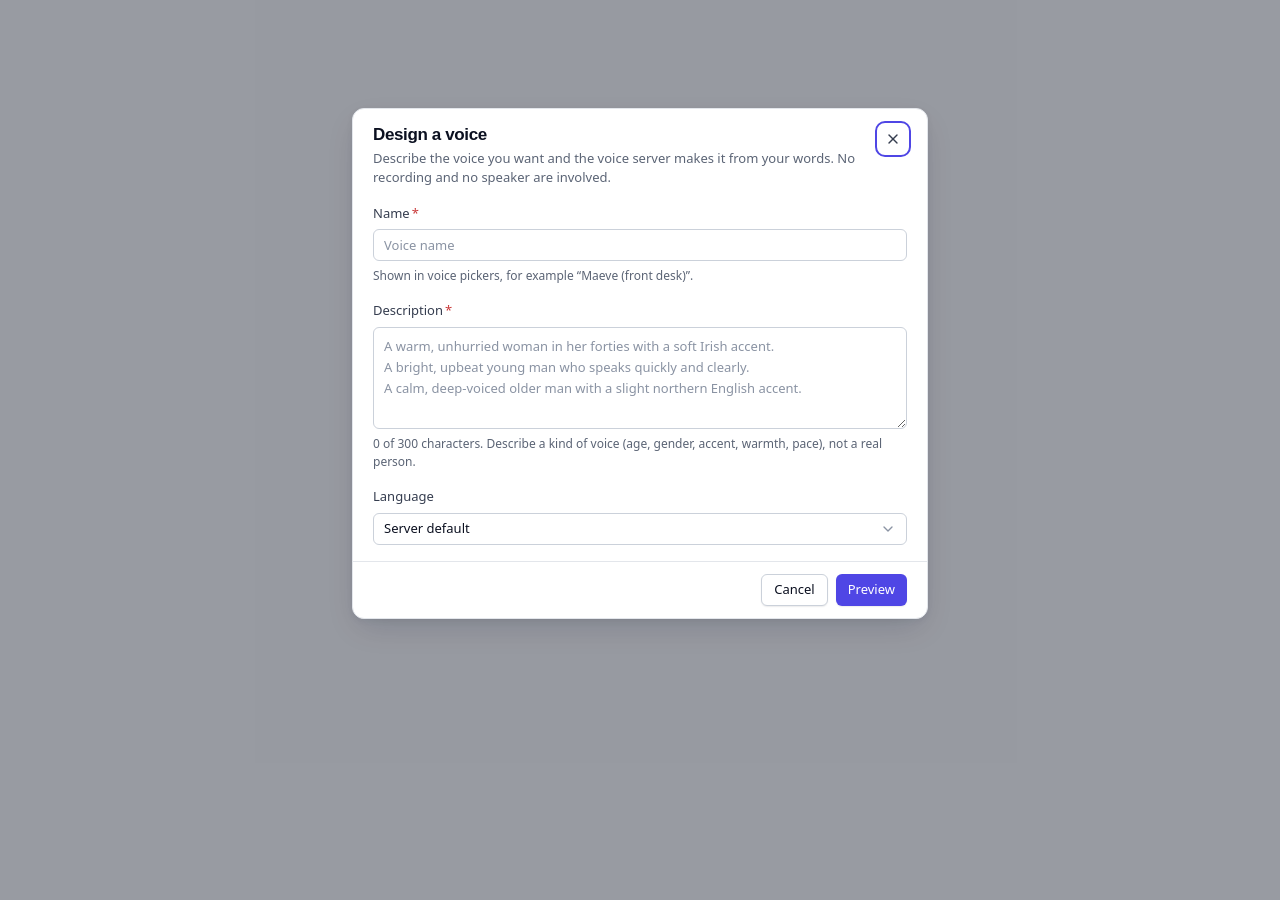
it: DesignVoiceDialog › shows what the server refused next to the field
The width and height of the screenshot is (1280, 900).
Step 1. Type "Maeve" into the field with placeholder "Voice name" → (640, 245), box [373,229,907,261]
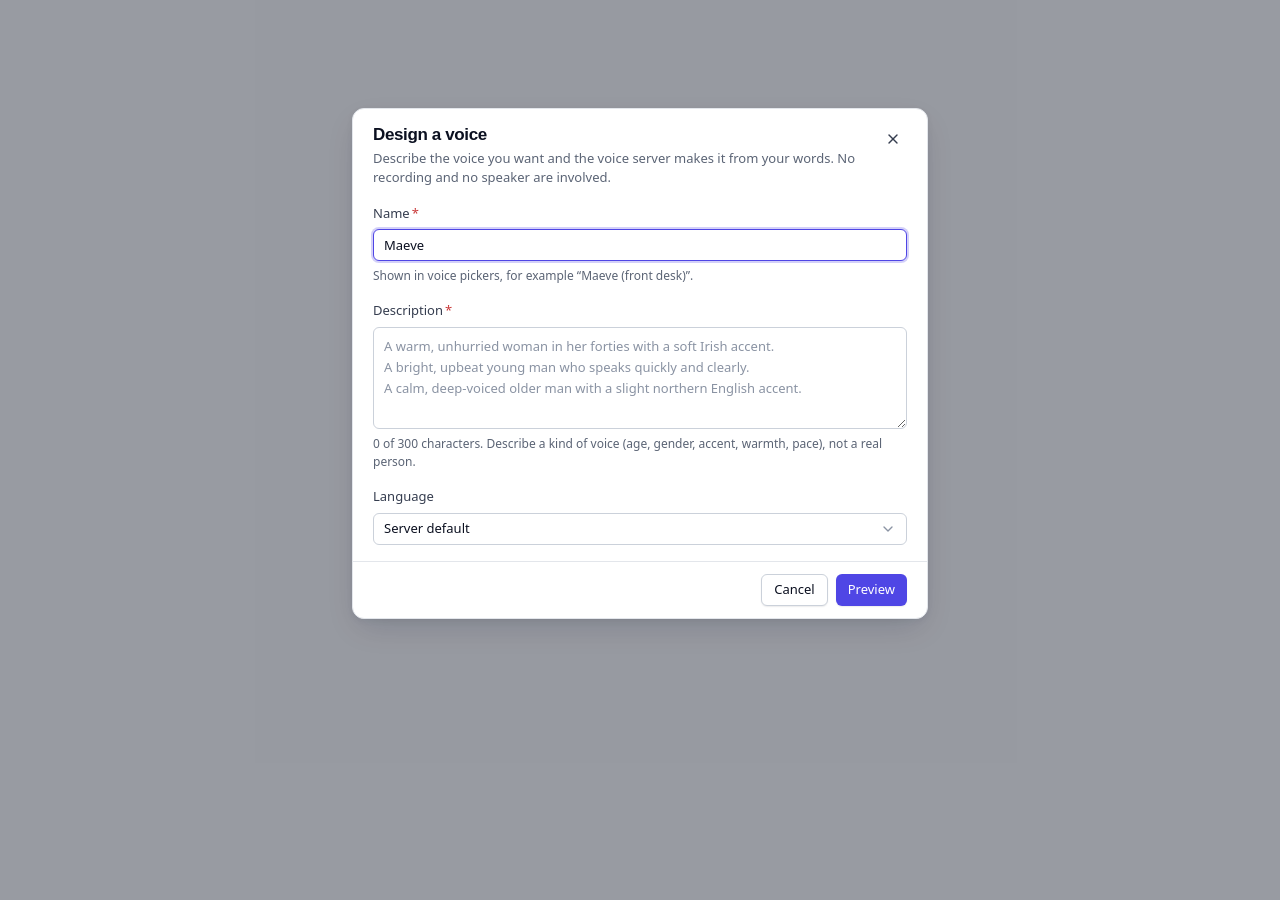
Step 2. Click the text box with placeholder "soft Irish accent" → (640, 378), box [373,326,907,429]
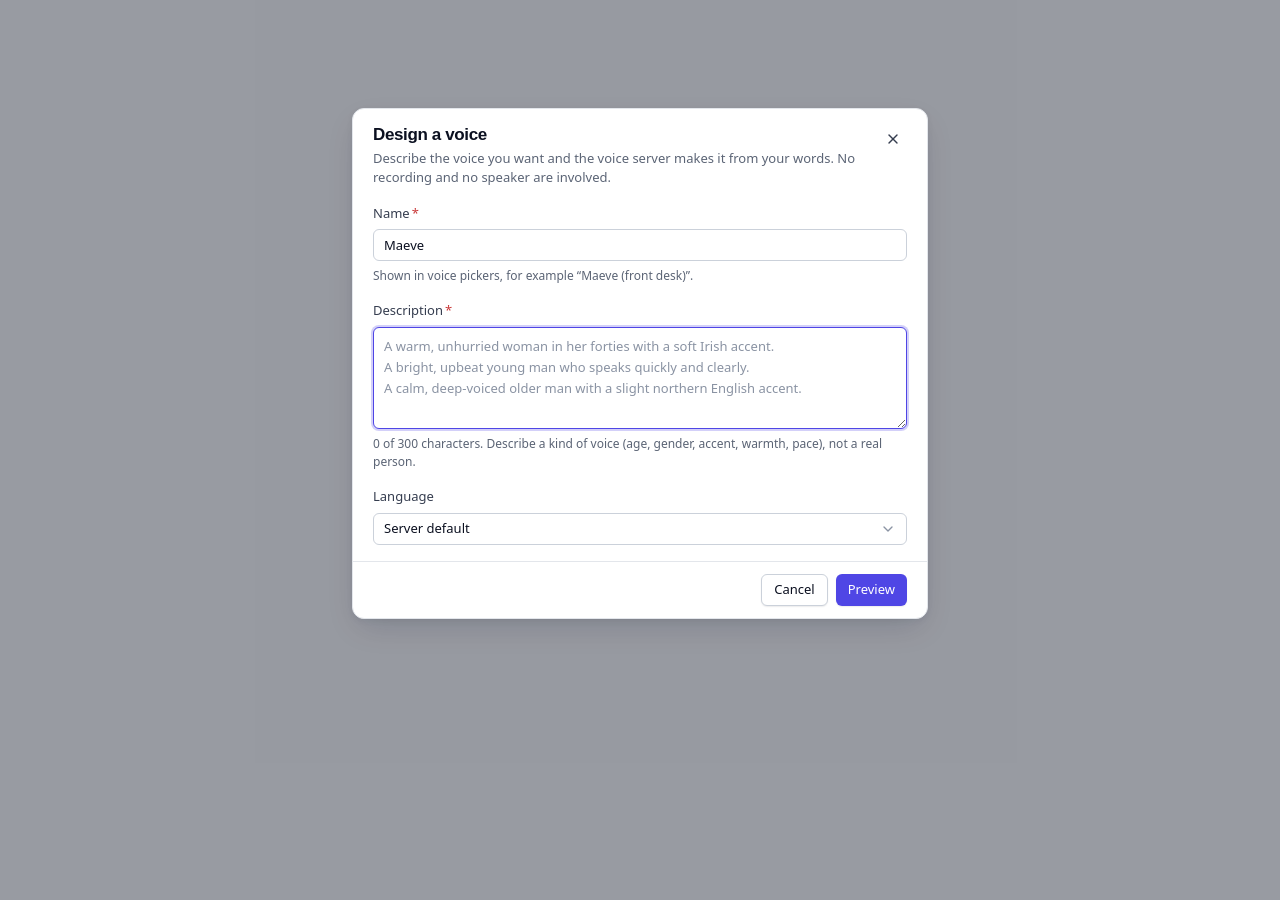
Step 3. Type keys "A warm, unhurried woman in her forties with a soft Irish accent."
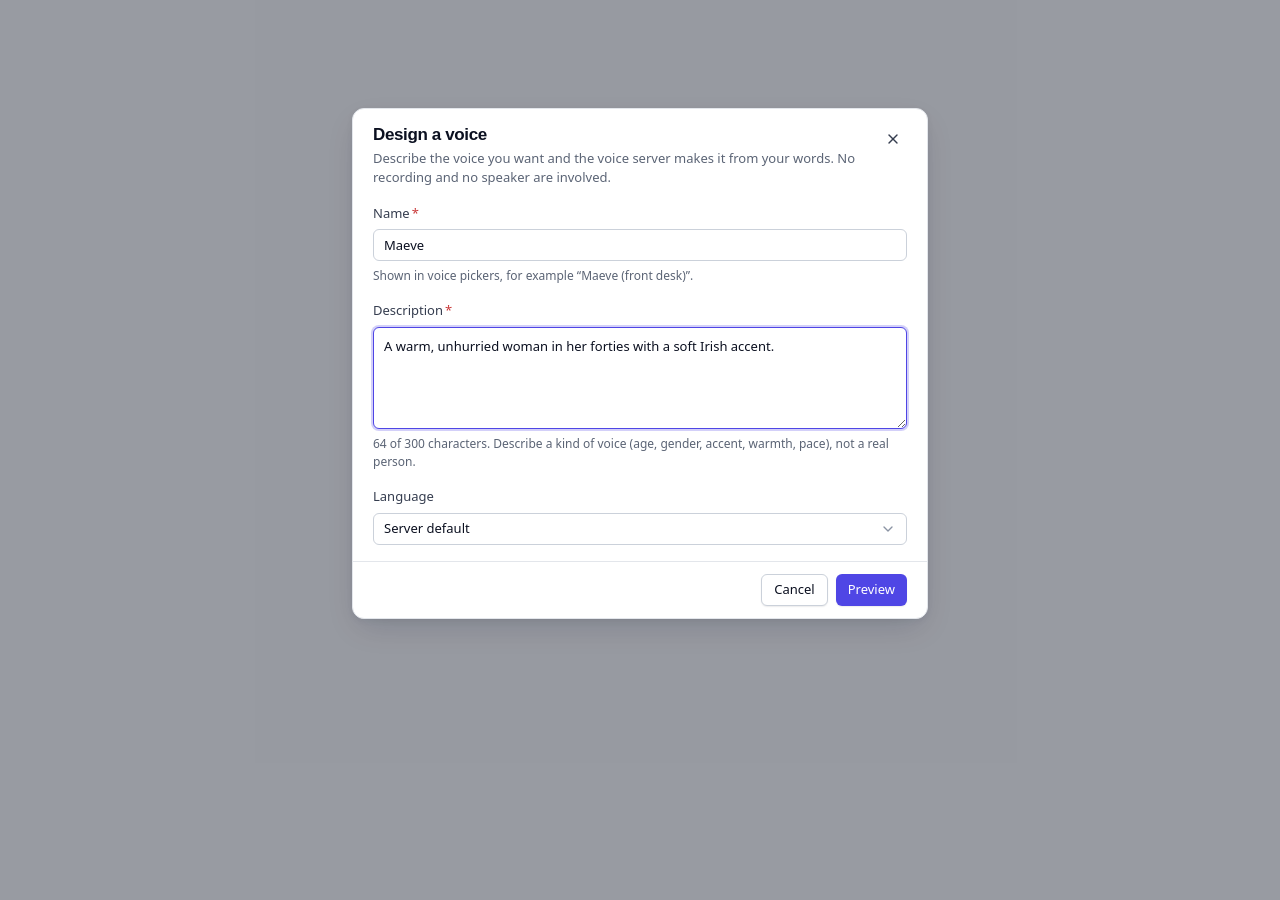
Step 4. Click the button "Preview" → (871, 590), box [836,574,907,606]
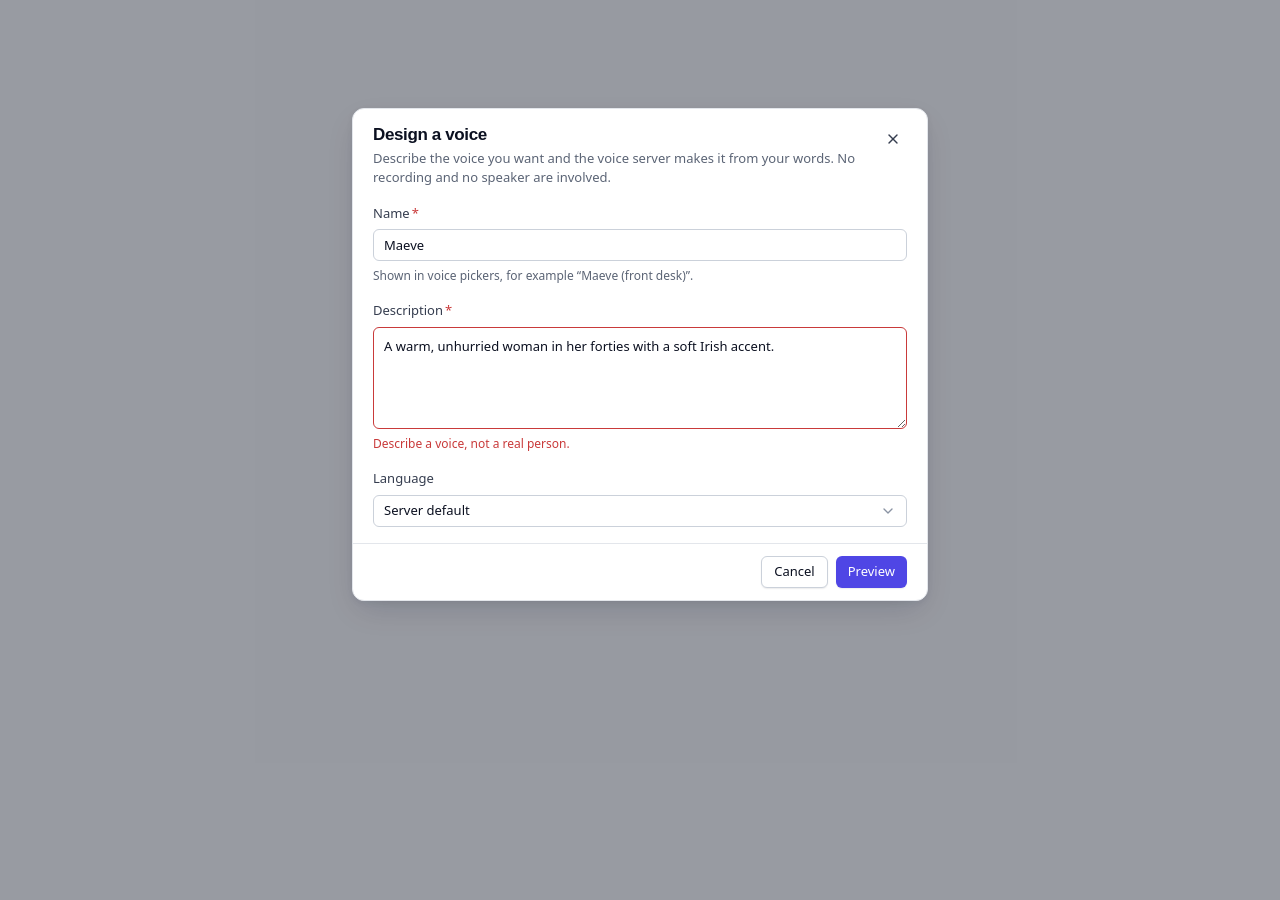
Check: the text "Describe a voice, not a real person." is shown, box [373,435,570,452]
